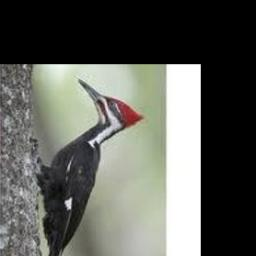Woodpecker: (36, 79, 145, 256)
